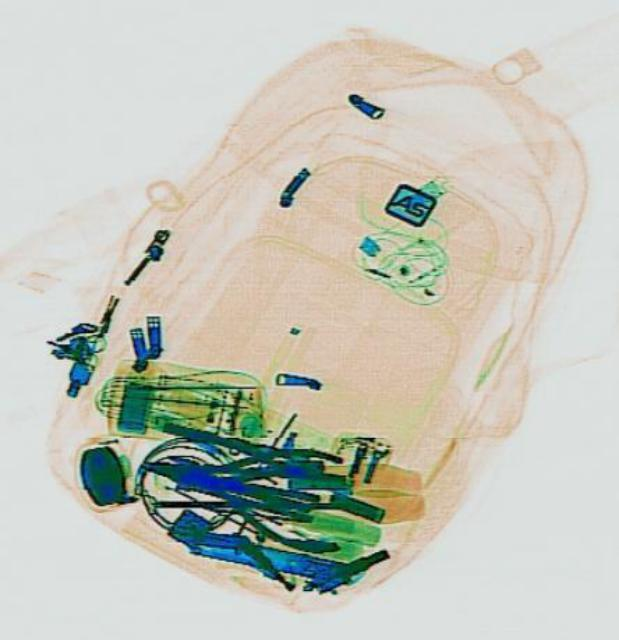Pliers: (132, 412, 359, 558)
